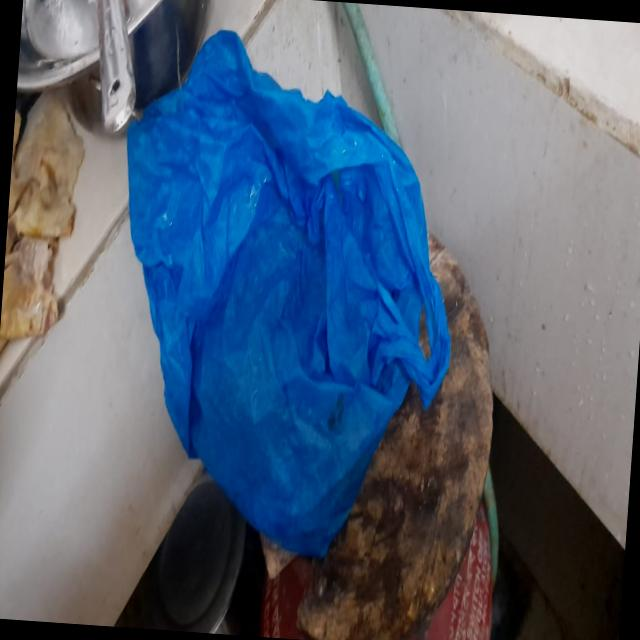Plastic - Recyclable: (95, 18, 472, 568)
